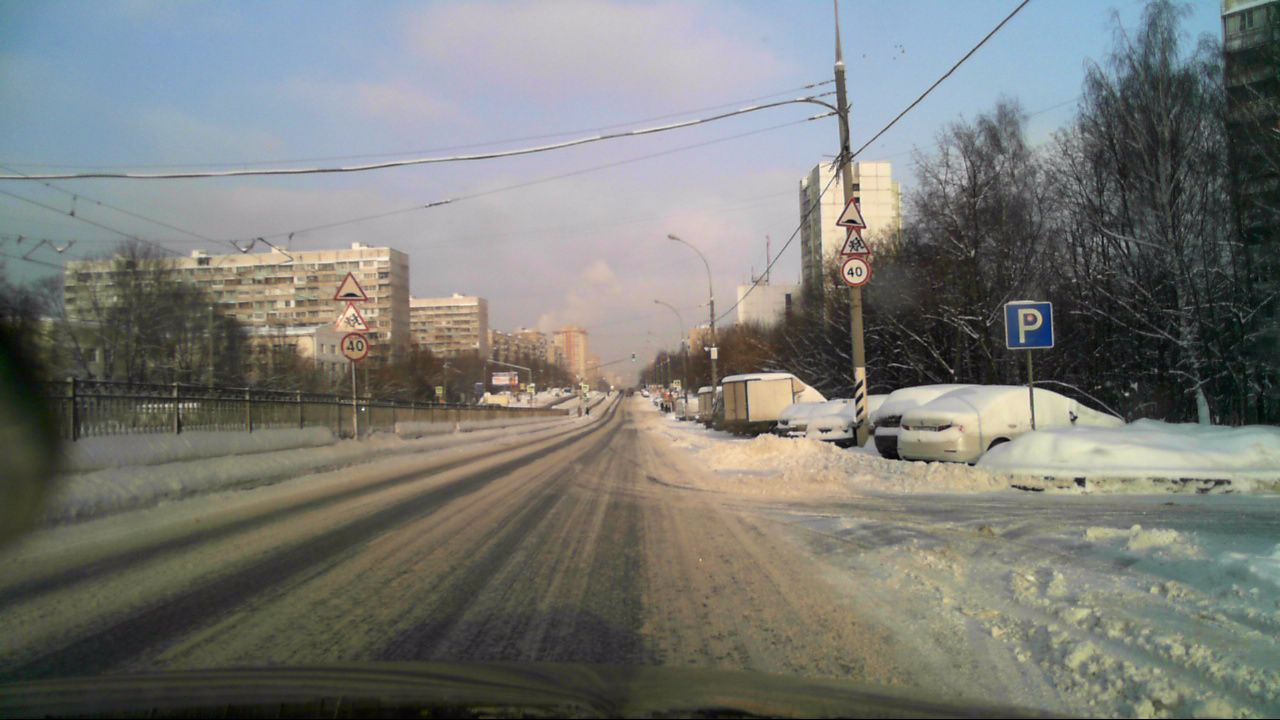speed_warning_40: (340, 332, 370, 361)
